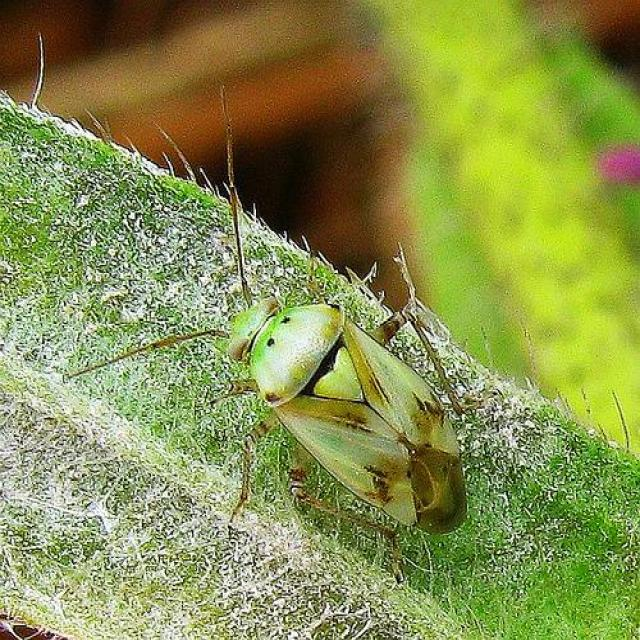Miridae-Adult-: (67, 73, 493, 562)
